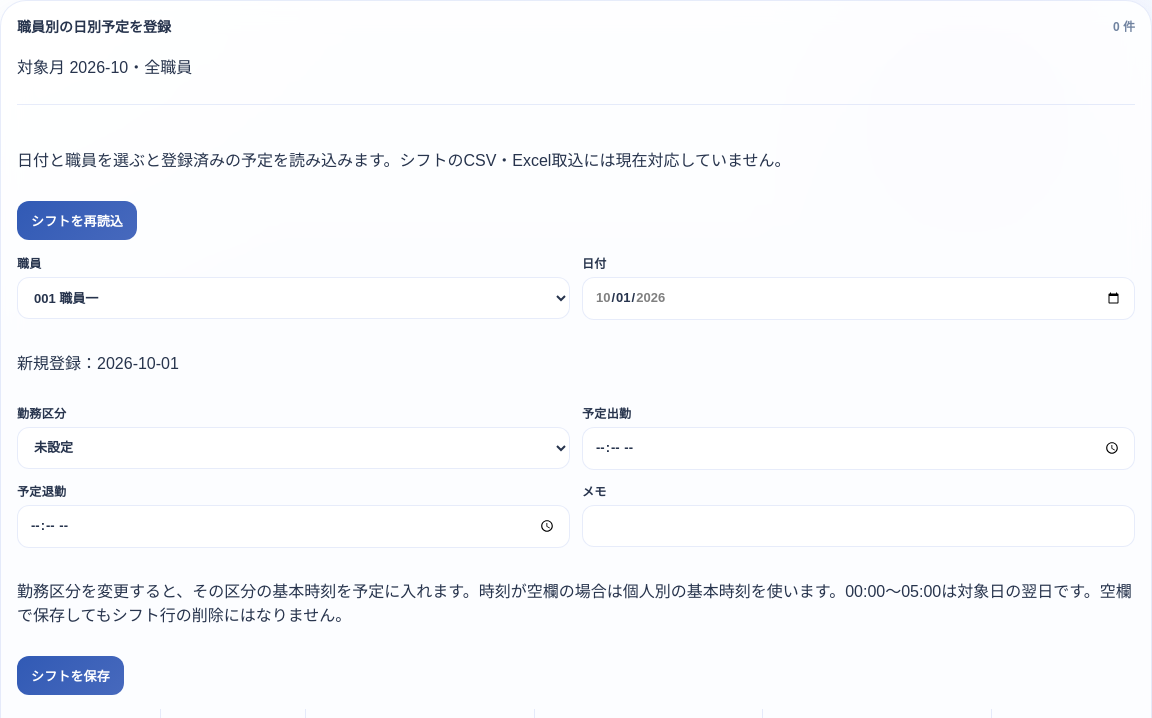
Test: attendance shift settings › requires reloading after an unknown save result, then displays the committed result
Click the button "シフトを保存".
click(70, 675)  # box 17,656 -> 124,694
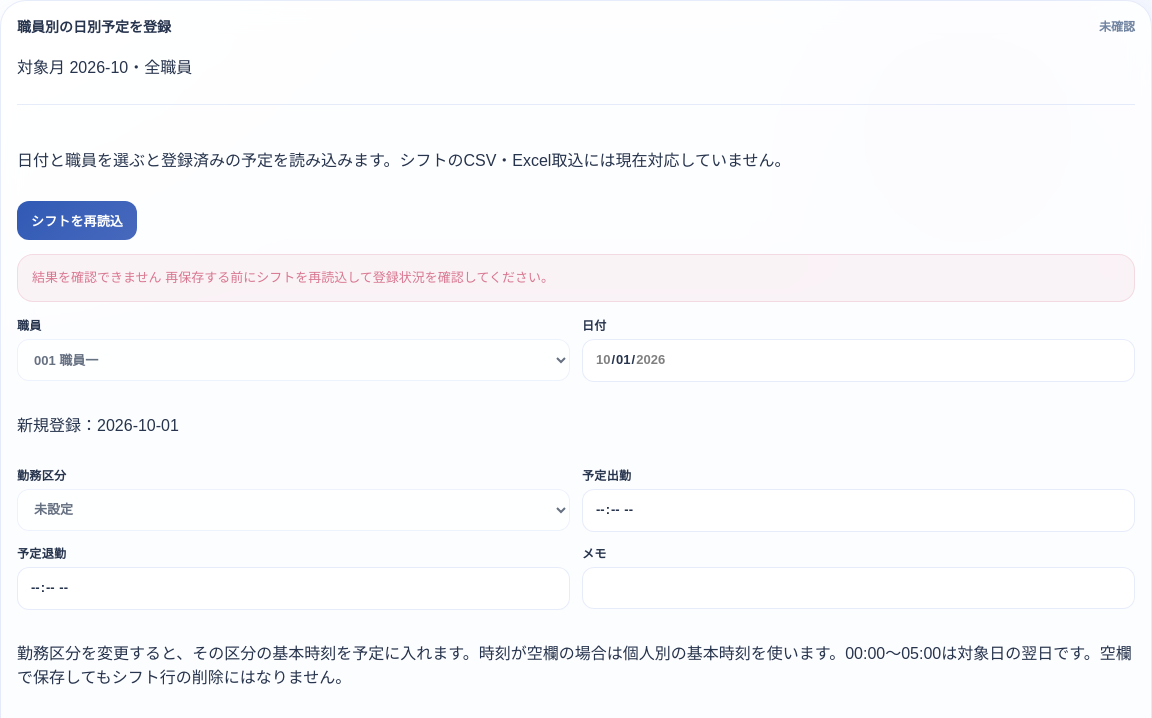
Expected: the message shows "再保存する前にシフトを再読込", 162,270 -> 554,285
Click the button "シフトを再読込".
click(77, 220)  # box 17,201 -> 137,240
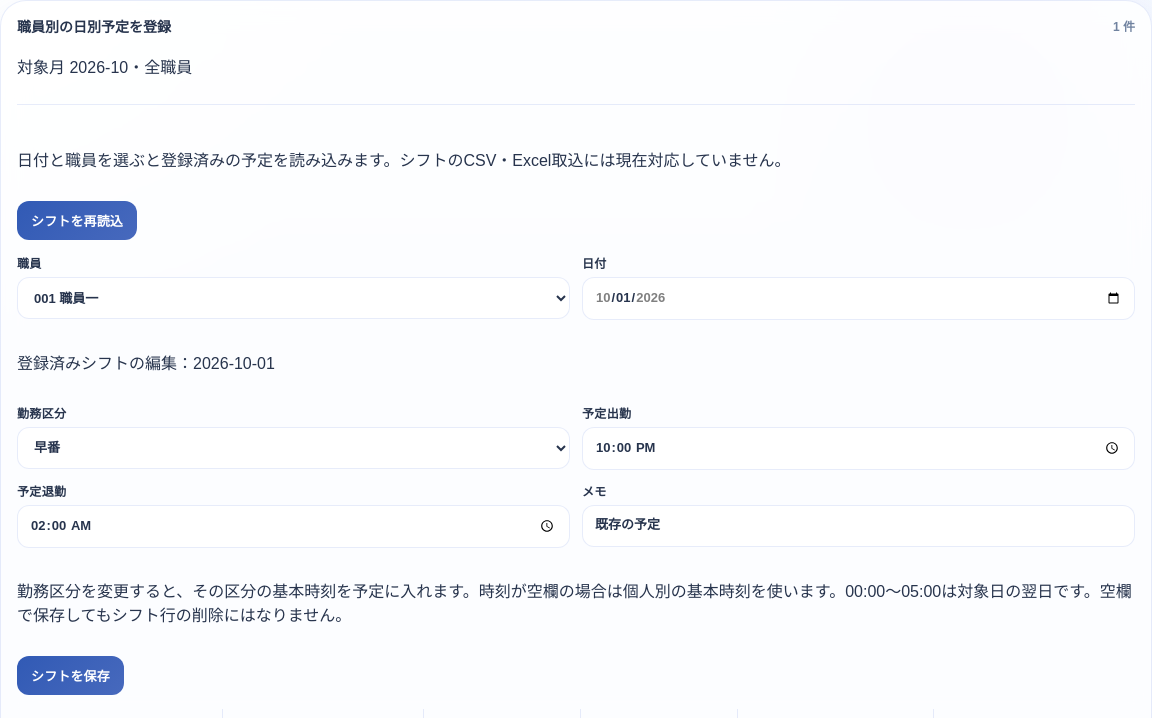
Expected: the time field labelled "予定出勤" holds "22:00", 582,427 -> 1135,470
